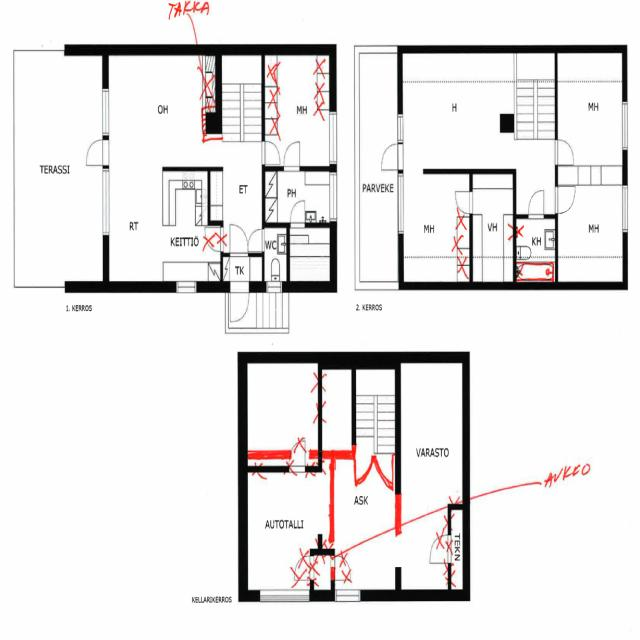door: (230, 281, 249, 322), (356, 453, 376, 489), (376, 453, 394, 489), (230, 224, 248, 257), (381, 144, 403, 170), (86, 140, 108, 165), (554, 187, 574, 213), (554, 140, 574, 164), (528, 190, 544, 218), (284, 142, 299, 171), (262, 142, 280, 164), (290, 200, 304, 228), (248, 230, 264, 252), (456, 192, 472, 214)
